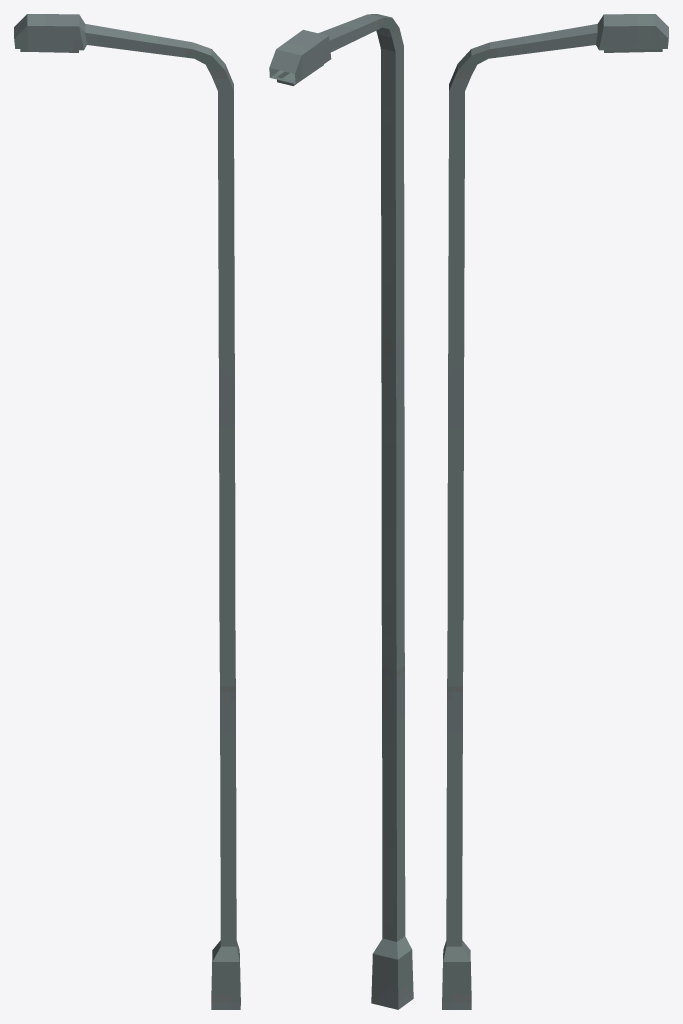
File: 189_katulamppu.gltf
The picture shows the model from 3 angles, left to right: view 1: azimuth 90°, elevation 25°; view 2: azimuth 150°, elevation 25°; view 3: azimuth 270°, elevation 25°; orthographic projection. The views are drawn at different scales.
Parts seen in each view (by area): view 1: katulamppu; view 2: katulamppu; view 3: katulamppu.
Boxes of the visible parts, <box> form: katulamppu: <box>14,14,240,1009</box>; katulamppu: <box>269,14,413,1009</box>; katulamppu: <box>442,14,668,1009</box>.
Size of the model in its own units: 0.5315 by 19.23 by 4.02.
Materials: 1 (1 with a texture image).
